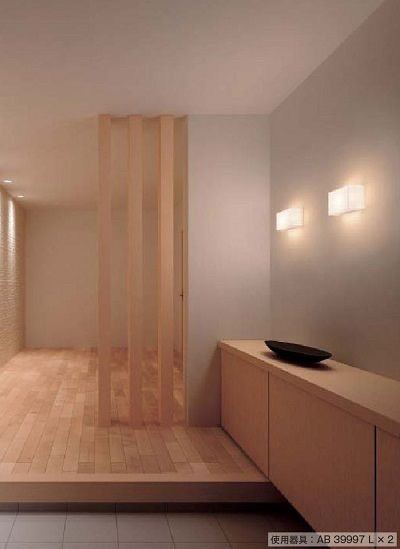floor: (0, 510, 331, 548)
